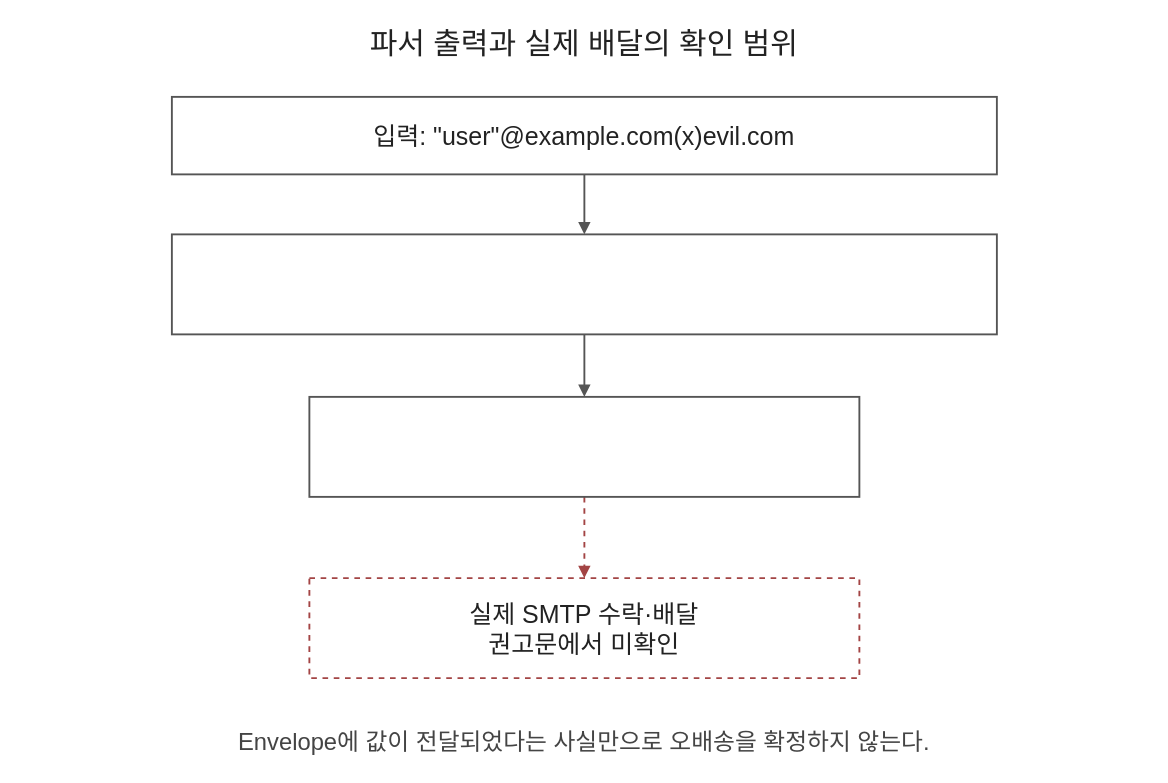
Image size: 1168x783. Some labels were removed from this diagram. Here are the shapes that lost their labels. From the top down, the centre of each, then its label:
At [583,284]: "파서 결과 user@example.com evil.com".
At [584,446]: "envelope.to로 전달 여기까지 확인됨".
